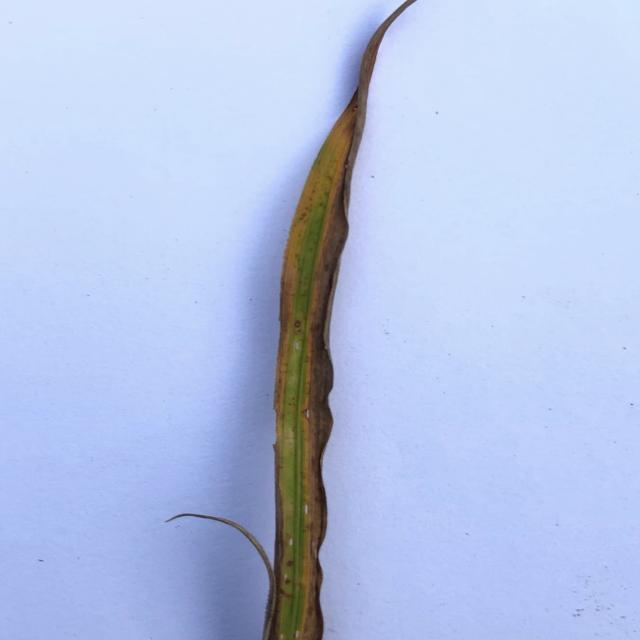tungro: (275, 35, 380, 429)
